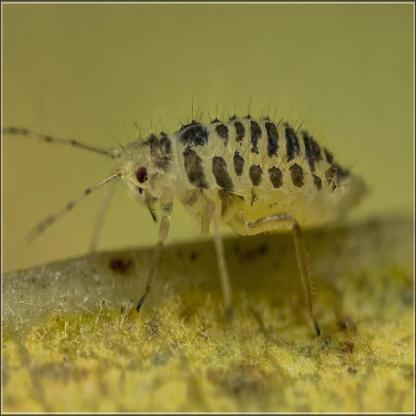aphid: (4, 99, 361, 345)
